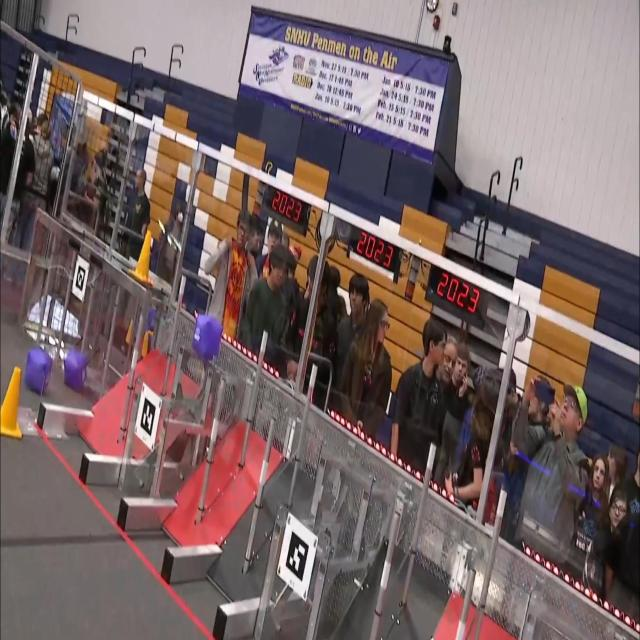frc_cone: (1, 366, 23, 441), (131, 229, 154, 287), (124, 316, 134, 345), (140, 332, 149, 354)
frc_cube: (192, 306, 222, 361), (26, 348, 52, 396), (64, 346, 87, 393), (145, 306, 155, 336)
